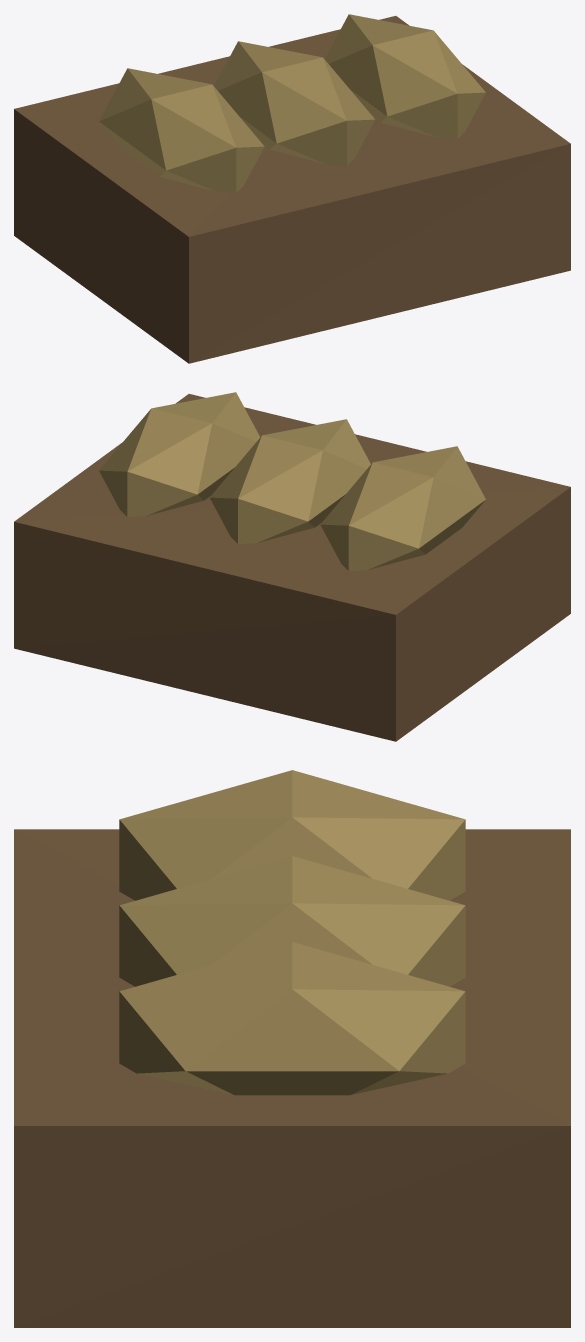
Rendered from RES-05-2.glb.
3 renders of one model, top to bottom at view 1: azimuth 30°, elevation 25°; view 2: azimuth 150°, elevation 25°; view 3: azimuth 270°, elevation 25°, orthographic. The views are drawn at different scales.
Visible parts, largest first — view 1: city-details/RES-05-2; view 2: city-details/RES-05-2; view 3: city-details/RES-05-2.
Part boxes in pixels (bbox=[...]): city-details/RES-05-2: bbox=[14, 14, 570, 363]; city-details/RES-05-2: bbox=[14, 392, 570, 741]; city-details/RES-05-2: bbox=[14, 770, 570, 1327].
Bounding box in the file's own units: 1.45 × 0.6831 × 1.15.
